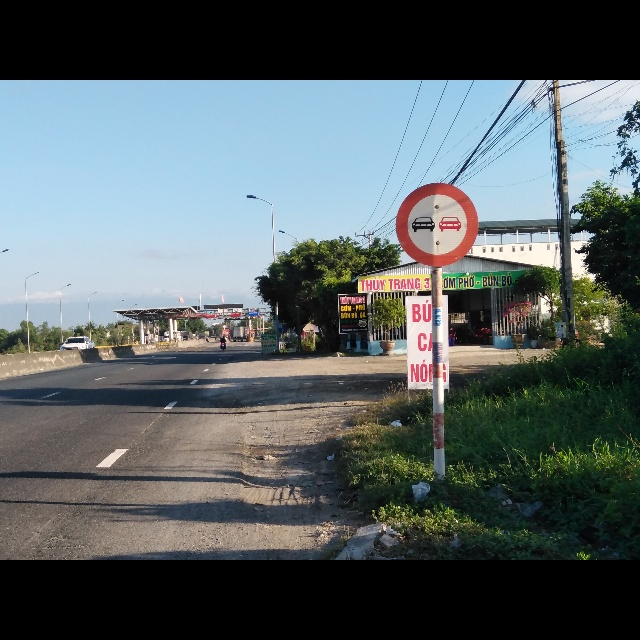Cấm vượt: (393, 183, 478, 267)
